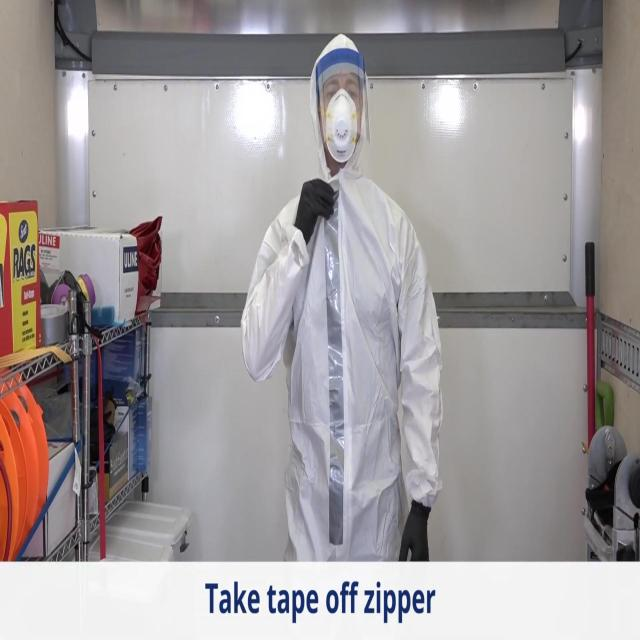Coverall: (241, 33, 442, 561)
Gloves: (294, 178, 337, 245), (399, 500, 432, 562)
Mask: (325, 88, 357, 166)
